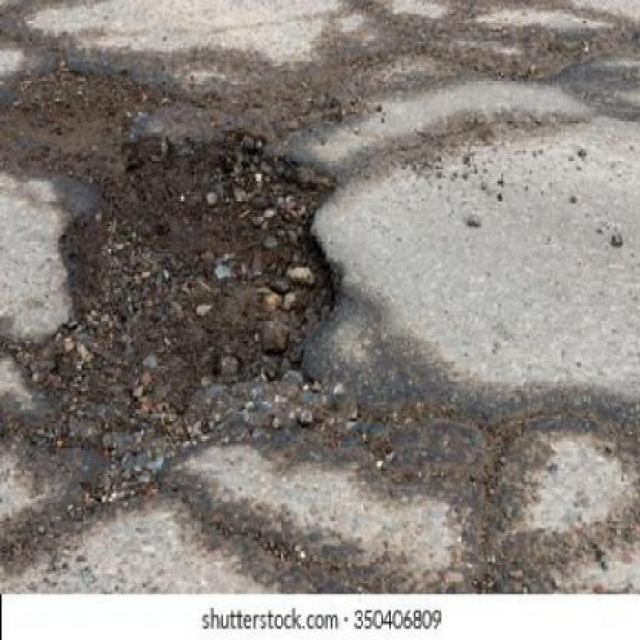Buraco: (0, 44, 351, 442)
